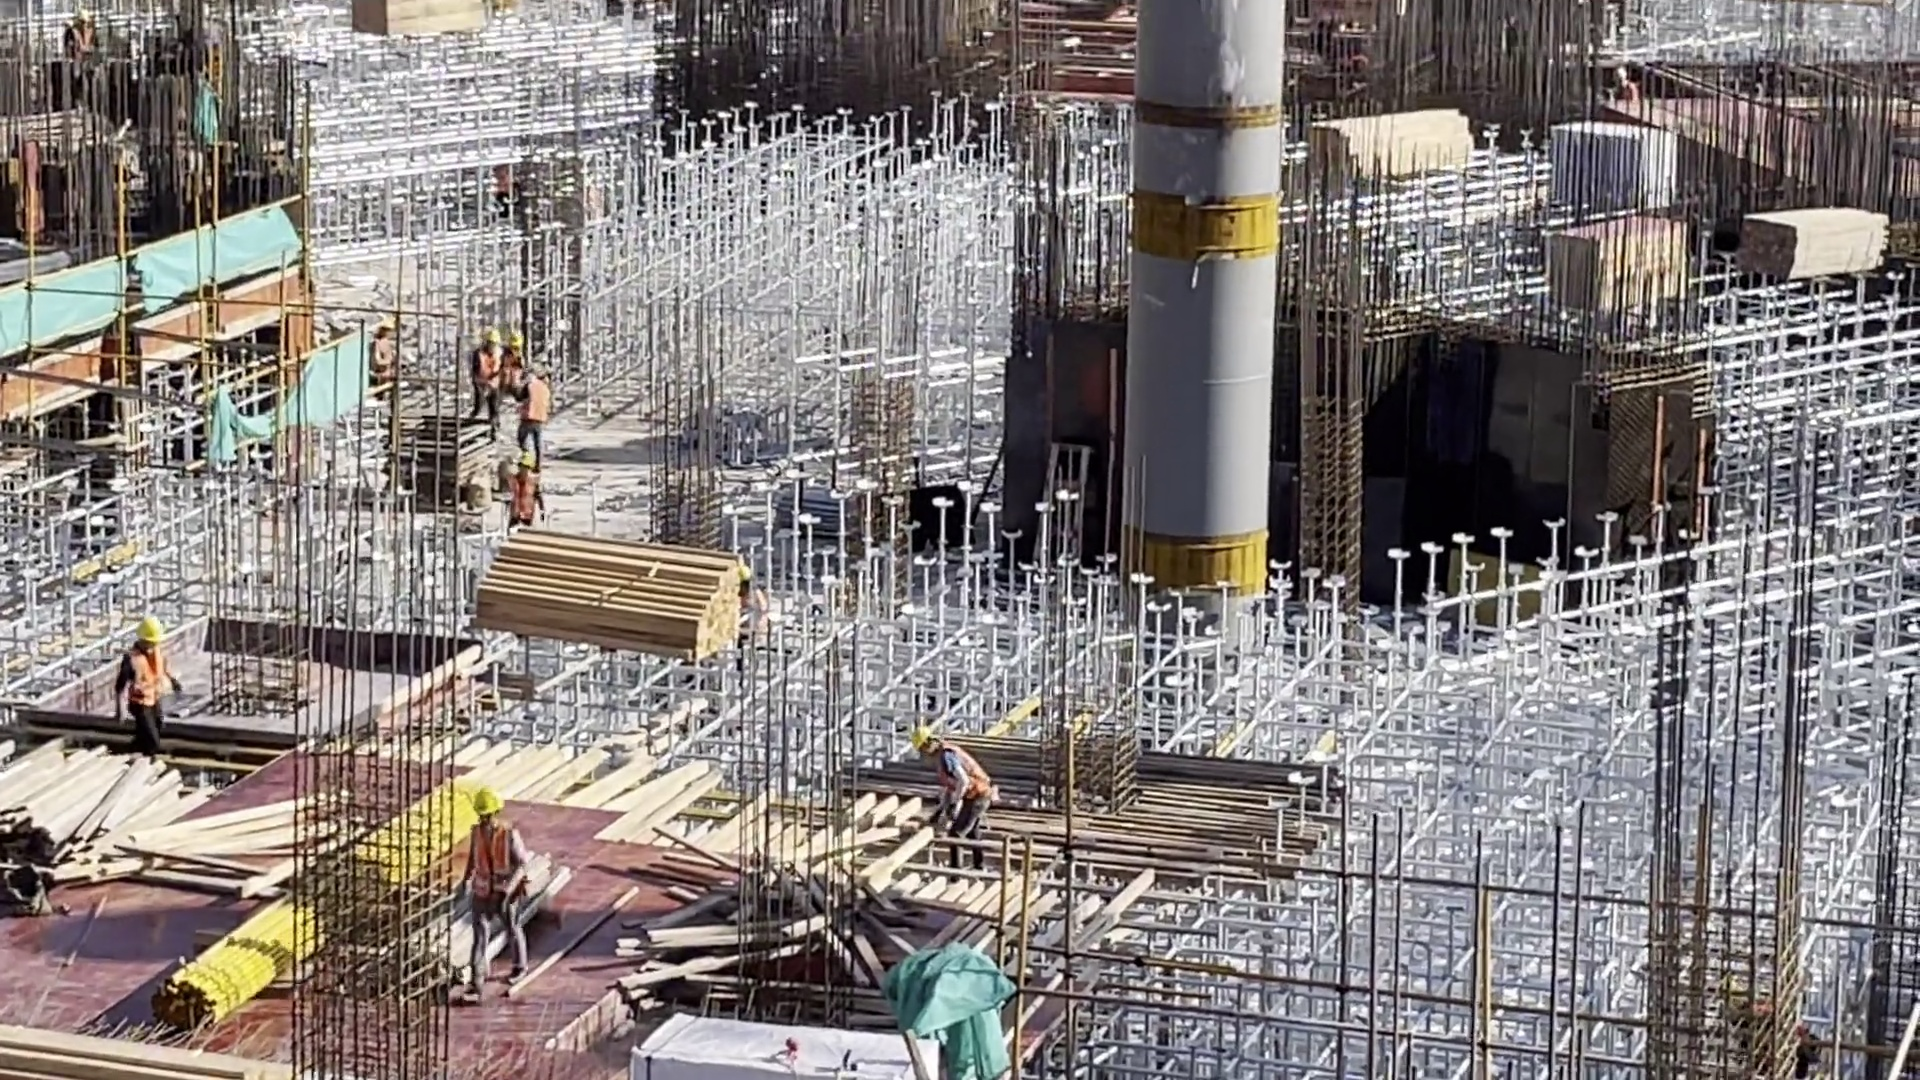board: (1551, 223, 1686, 310)
helmet: (473, 790, 505, 815), (136, 618, 165, 643), (913, 726, 928, 751)
person: (456, 789, 532, 1003), (915, 726, 994, 865), (115, 620, 183, 762), (509, 360, 554, 458), (501, 454, 546, 538), (465, 331, 500, 424), (363, 316, 396, 388)
vest: (467, 826, 516, 915), (125, 656, 173, 720), (938, 743, 992, 799), (521, 373, 550, 424), (509, 470, 535, 522), (470, 351, 497, 392)
wood: (483, 549, 738, 660), (1743, 206, 1875, 276), (1324, 112, 1459, 179)
